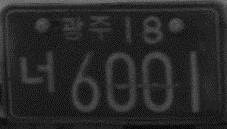0: (104, 51, 138, 112), (141, 51, 173, 113)
1: (186, 48, 201, 113), (123, 14, 135, 44)
6: (70, 51, 101, 112)
8: (140, 14, 163, 45)
광주_O: (61, 13, 113, 43)
너: (17, 49, 56, 95)
